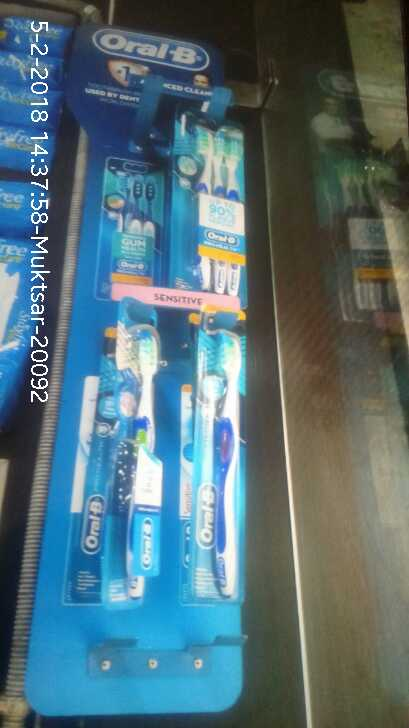oralb: (109, 314, 173, 601), (189, 320, 253, 607), (168, 119, 254, 300)
